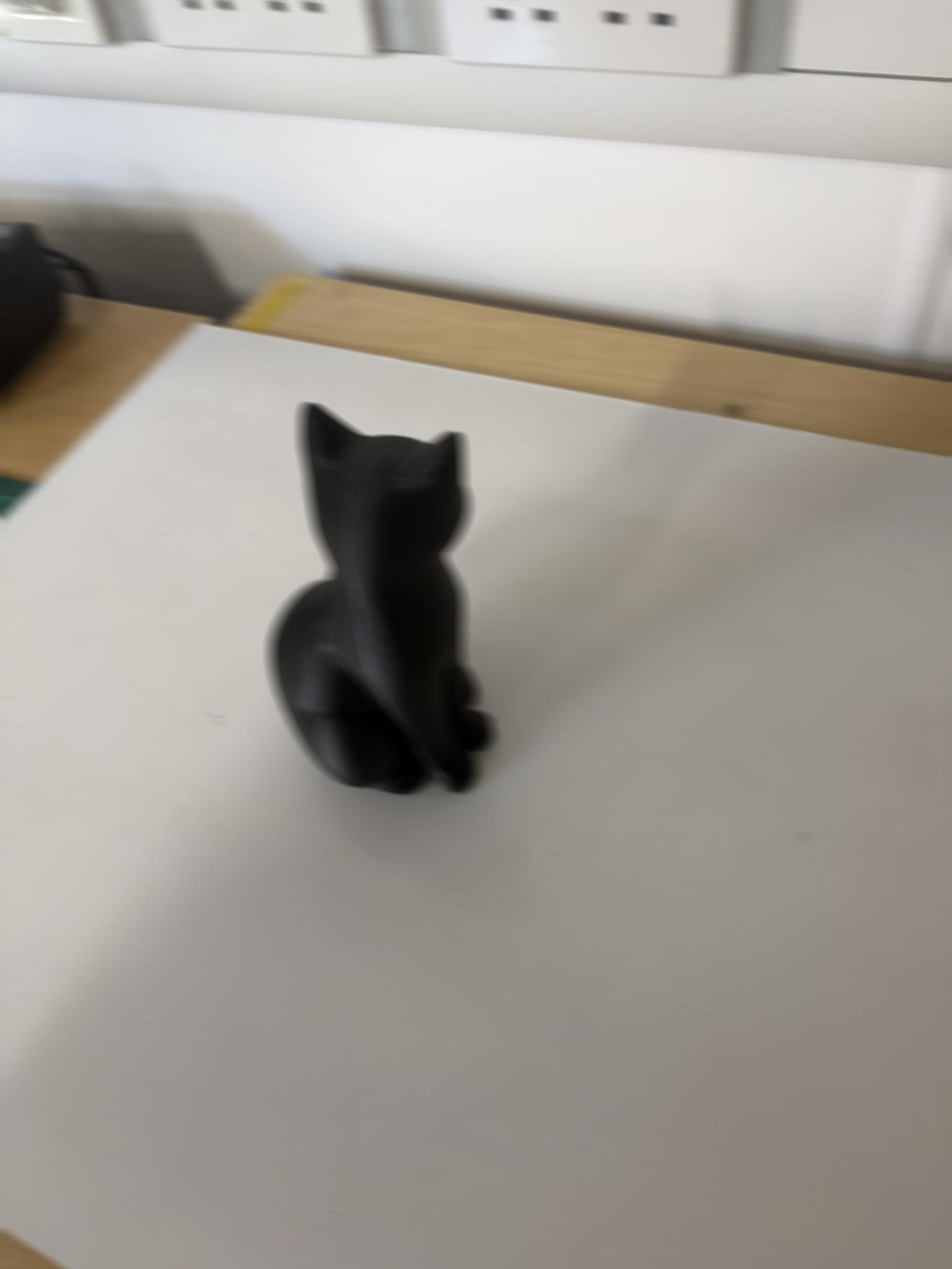cat: (271, 404, 493, 793)
